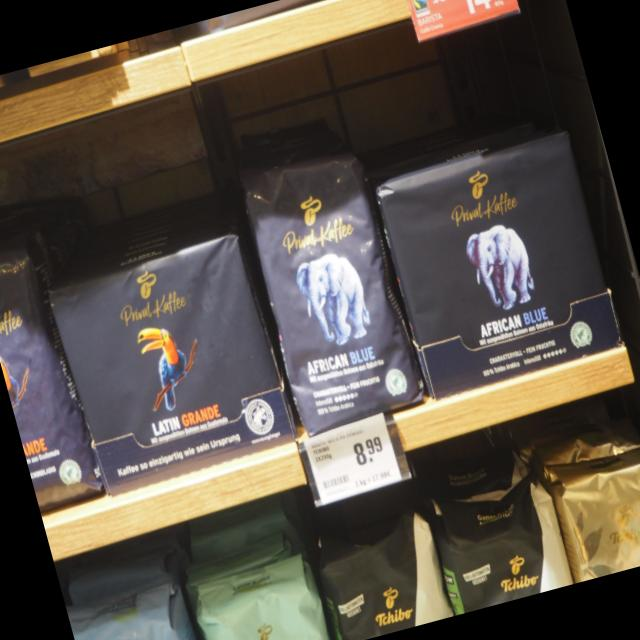AB Bohne: (230, 128, 430, 440)
AB Gemahlen: (370, 124, 628, 396)
LG Gemahlen: (43, 226, 298, 498)
